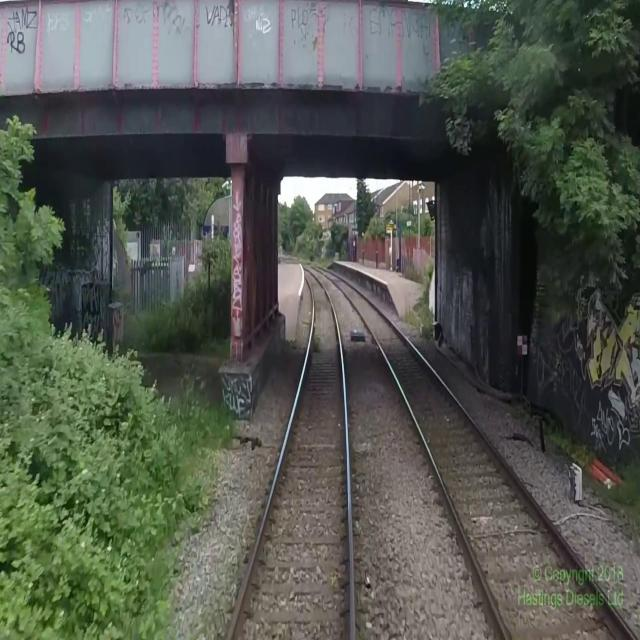rail-track: (231, 268, 350, 639)
